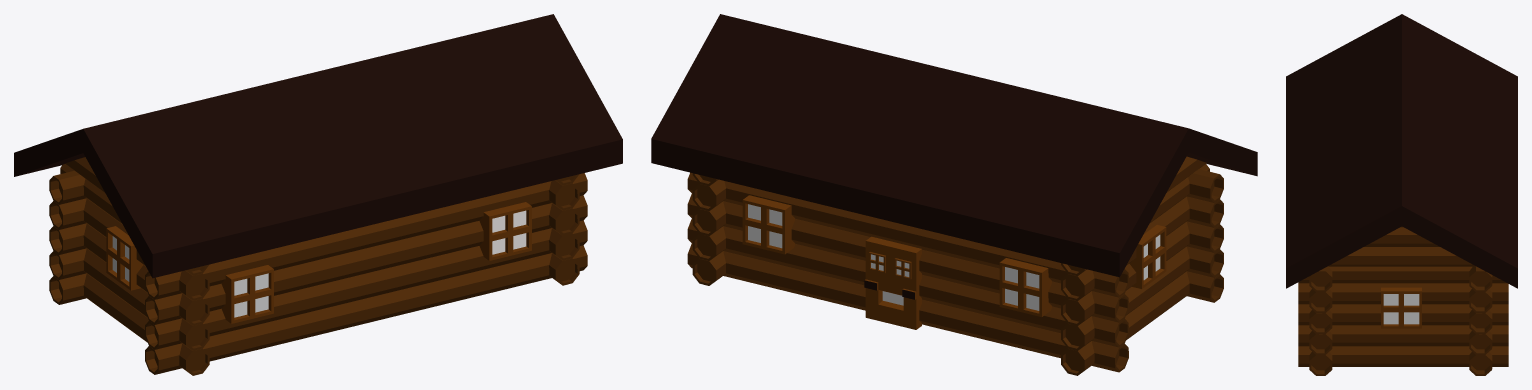
The model's file is House.fbx.
3 renders of one model, left to right at view 1: azimuth 30°, elevation 25°; view 2: azimuth 150°, elevation 25°; view 3: azimuth 270°, elevation 25°, orthographic. The views are drawn at different scales.
Visible parts, largest first — view 1: Cube, Cylinder.001, Cube.004, Cube.005, Cube.008, Cube.010, Cube.011; view 2: Cube, Cylinder.001, Cube.006, Cube.001, Cube.003, Cube.008, Cube.002, Cube.014, Cube.007; view 3: Cube, Cylinder.001, Cube.009, Cube.015.
Boxes of the visible parts, x1,y1,x2,y2 form: Cube: (14,14,622,278); Cylinder.001: (49,157,587,375); Cube.004: (479,202,531,260); Cube.005: (221,265,273,323); Cube.008: (106,226,143,290); Cube.010: (492,210,526,254); Cube.011: (234,273,268,317); Cube: (651,14,1257,277); Cylinder.001: (687,156,1223,375); Cube.006: (865,236,921,329); Cube.001: (742,195,794,254); Cube.003: (999,258,1051,316); Cube.008: (1129,225,1166,288); Cube.002: (748,204,782,248); Cube.014: (1005,267,1039,310); Cube.007: (868,252,911,279); Cube: (1286,14,1517,288); Cylinder.001: (1298,226,1508,375); Cube.009: (1381,287,1421,328); Cube.015: (1383,294,1419,324).
Bounding box in the file's own units: 37.57 × 19.16 × 16.3.
